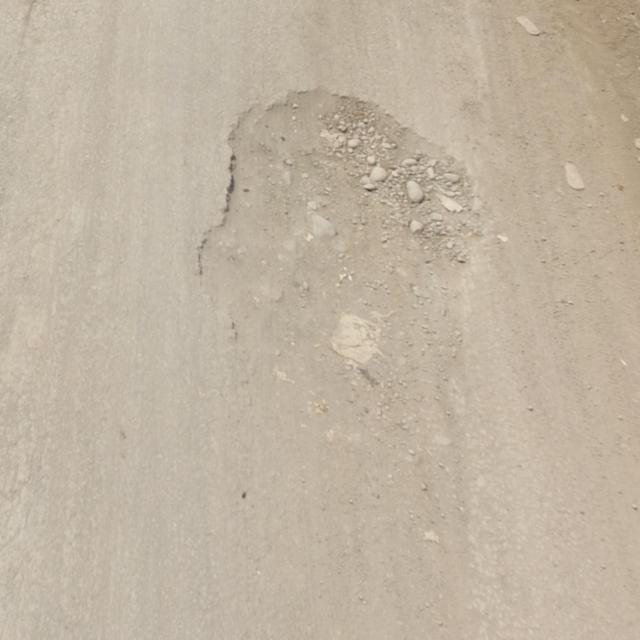BACHE: (199, 93, 478, 413)
